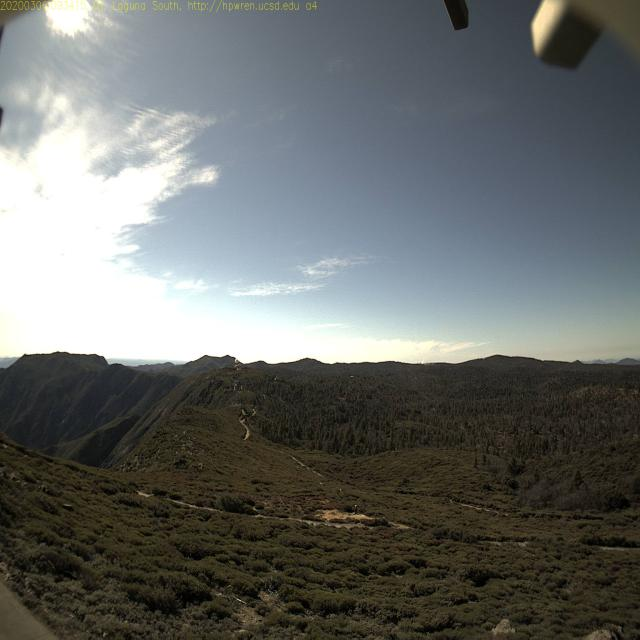smoke: (413, 346, 438, 368)
